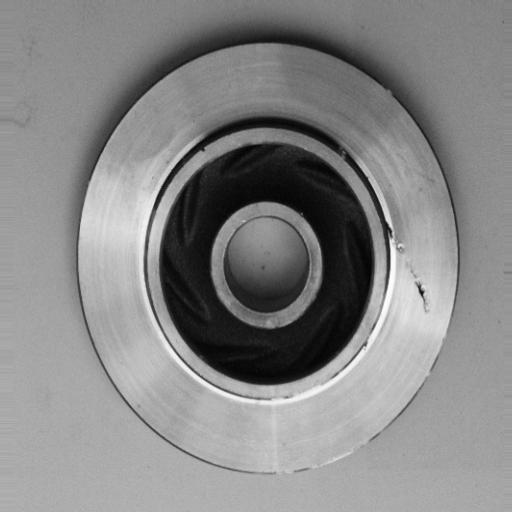crack: (380, 218, 443, 322)
scratch: (243, 378, 342, 410)
unpolished_casting: (75, 38, 462, 478)
